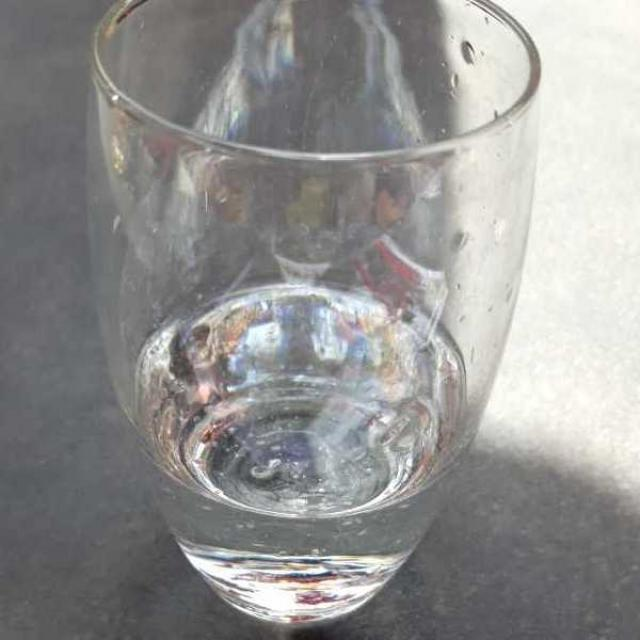water: (122, 294, 476, 624)
